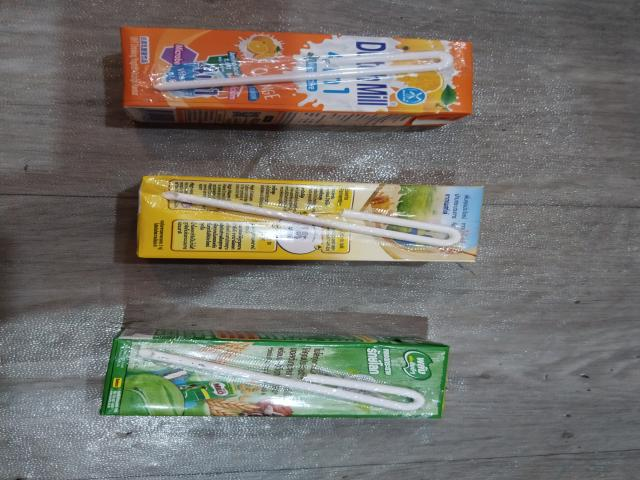drink_box: (99, 21, 496, 132), (99, 325, 462, 426), (122, 172, 488, 271)
